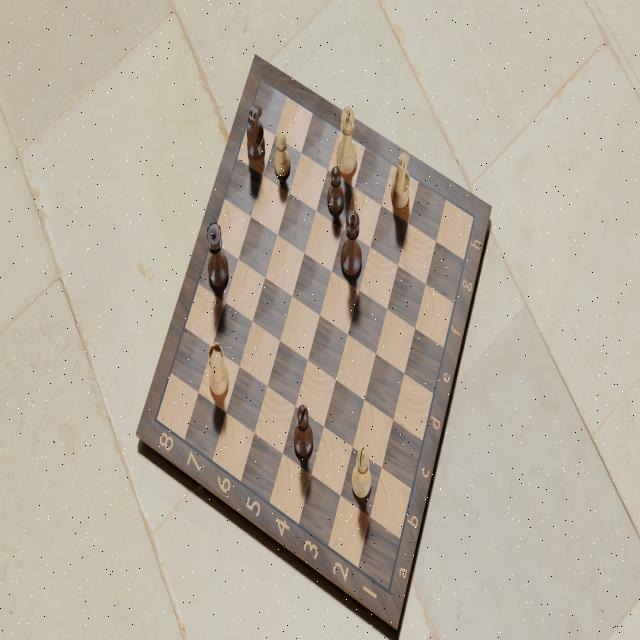black-bishop: (292, 404, 315, 461)
black-king: (340, 208, 363, 279)
black-knight: (245, 103, 267, 161)
black-pawn: (326, 163, 346, 218)
black-queen: (206, 221, 230, 291)
black-rook: (206, 342, 230, 402)
white-bishop: (351, 445, 373, 500)
white-king: (335, 105, 358, 175)
white-knight: (390, 150, 412, 212)
white-pawn: (273, 128, 291, 182)
